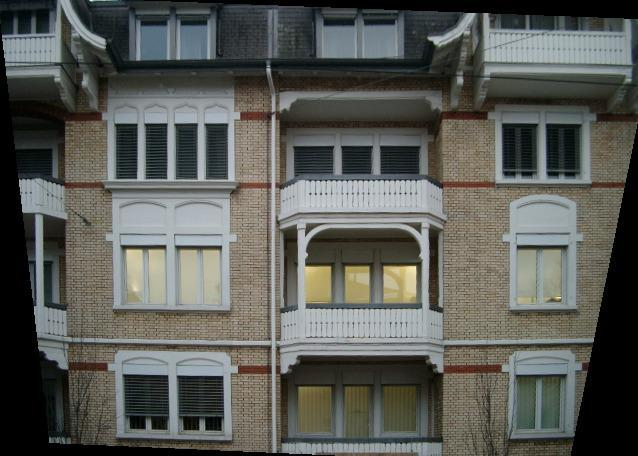window: (517, 364, 569, 438), (519, 233, 571, 306), (177, 235, 223, 311), (123, 234, 169, 309), (177, 366, 225, 437), (123, 366, 169, 436), (295, 371, 337, 437), (381, 370, 422, 436), (546, 113, 584, 180), (502, 112, 540, 179), (296, 248, 337, 307), (381, 248, 422, 306), (344, 372, 376, 441), (135, 9, 172, 62), (178, 8, 215, 60), (342, 249, 375, 306), (321, 12, 358, 59), (365, 13, 401, 59), (296, 135, 334, 176), (382, 134, 420, 175), (7, 147, 54, 179), (342, 135, 373, 177), (116, 125, 139, 181), (146, 124, 169, 180), (176, 124, 199, 180), (206, 124, 229, 180)
